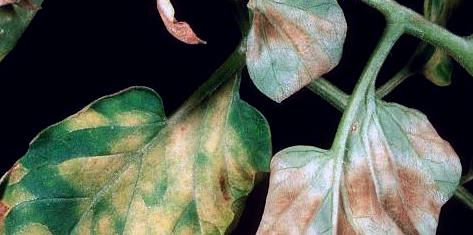Tomato mold leaf: (0, 77, 260, 235)
